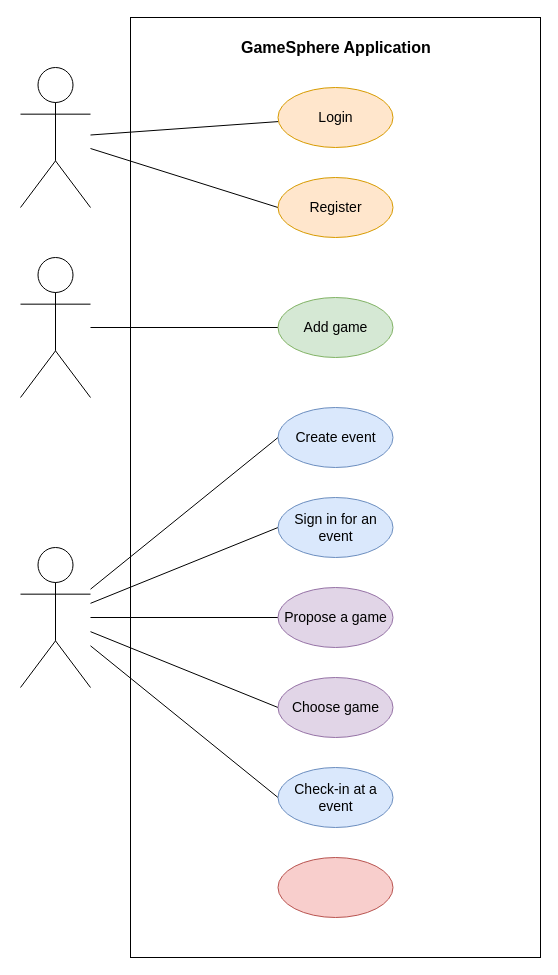
Some shapes in this 558 by 975 pixel diagram are drawn without their labels. The shapes that lost their labels are listed below. From the top down, each one's centre as x and y in pixels, then its label:
the point at 55,137: Guest User
the point at 55,327: Admin
the point at 55,617: Player
the point at 335,887: Add badge to player
